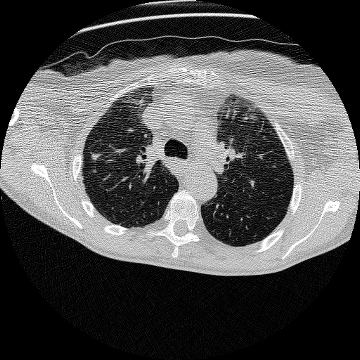nodule: (91, 153, 99, 161)
